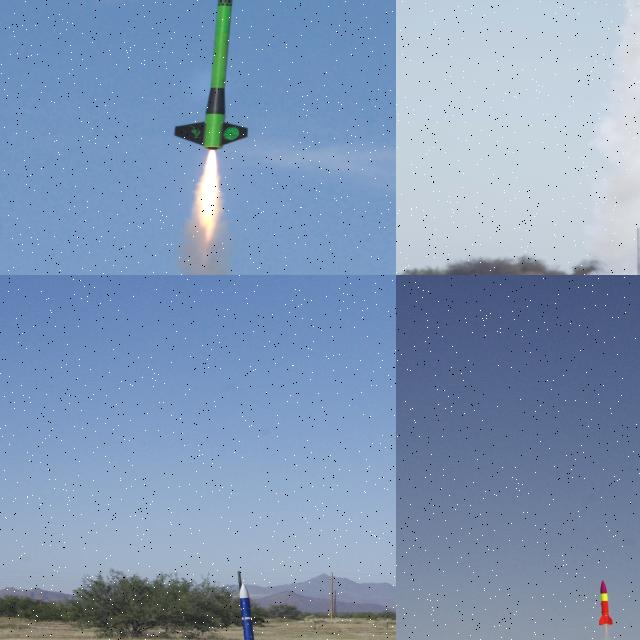Rocket: (172, 0, 249, 151), (236, 582, 263, 640), (598, 579, 614, 628)
